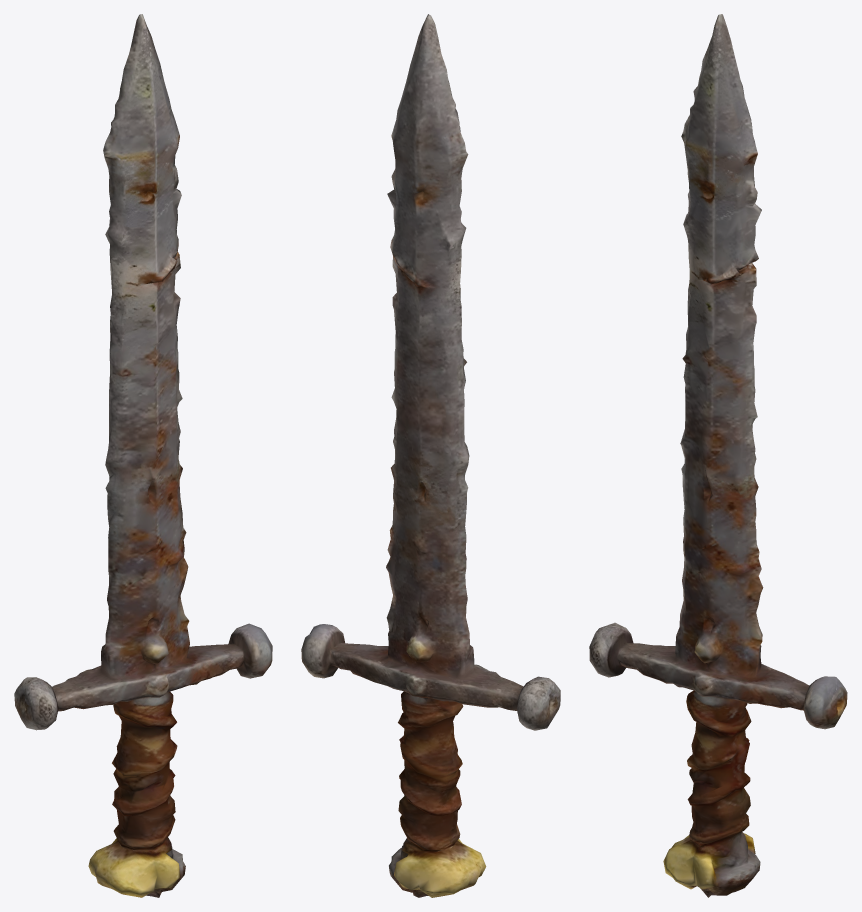
The model's file is Sk_Blade-C5WnWEPD.glb.
The picture shows the model from 3 angles, left to right: view 1: azimuth 30°, elevation 25°; view 2: azimuth 150°, elevation 25°; view 3: azimuth 330°, elevation 25°; orthographic projection.
Parts seen in each view (by area): view 1: Sk_Blade; view 2: Sk_Blade; view 3: Sk_Blade.
Boxes of the visible parts, box(x1,y1,x2,y2) form: Sk_Blade: box(14, 14, 272, 897); Sk_Blade: box(301, 14, 560, 897); Sk_Blade: box(589, 14, 847, 897).
Bounding box in the file's own units: 0.4365 × 1.5 × 0.141.
Materials: 1 (1 with a texture image).
